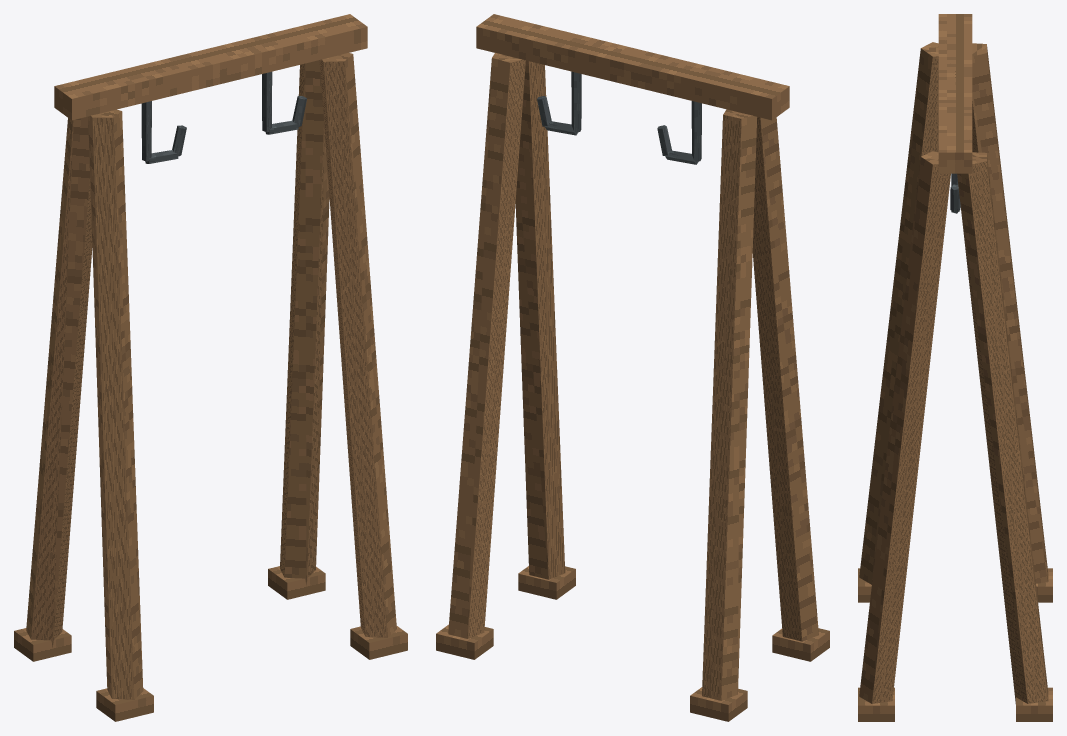
Rendered from f_butcher_rack.glb.
The picture shows the model from 3 angles, left to right: view 1: azimuth 30°, elevation 25°; view 2: azimuth 150°, elevation 25°; view 3: azimuth 270°, elevation 25°; orthographic projection. The views are drawn at different scales.
Visible parts, largest first — view 1: block_A-frame-trestle-1 (×4), block_crossbeam, block_trestle-foot (×4), block_suspended-hook-1; view 2: block_A-frame-trestle-1 (×4), block_crossbeam, block_trestle-foot (×4), block_suspended-hook-1; view 3: block_A-frame-trestle-1 (×4), block_crossbeam, block_trestle-foot (×3).
Boxes of the visible parts, x1,y1,x2,y2 form: block_A-frame-trestle-1 (×4): (26,52,396,699); block_crossbeam: (54,14,367,120); block_trestle-foot (×4): (14,566,407,721); block_suspended-hook-1: (141,101,151,161); block_A-frame-trestle-1 (×4): (448,52,818,700); block_crossbeam: (476,14,789,120); block_trestle-foot (×4): (436,566,829,721); block_suspended-hook-1: (571,71,581,131); block_A-frame-trestle-1 (×4): (859,42,1048,703); block_crossbeam: (938,14,972,173); block_trestle-foot (×3): (858,568,1052,721).
Size of the model in its own units: 0.878 by 1.68 by 0.521.
1 material, 1 textured.
